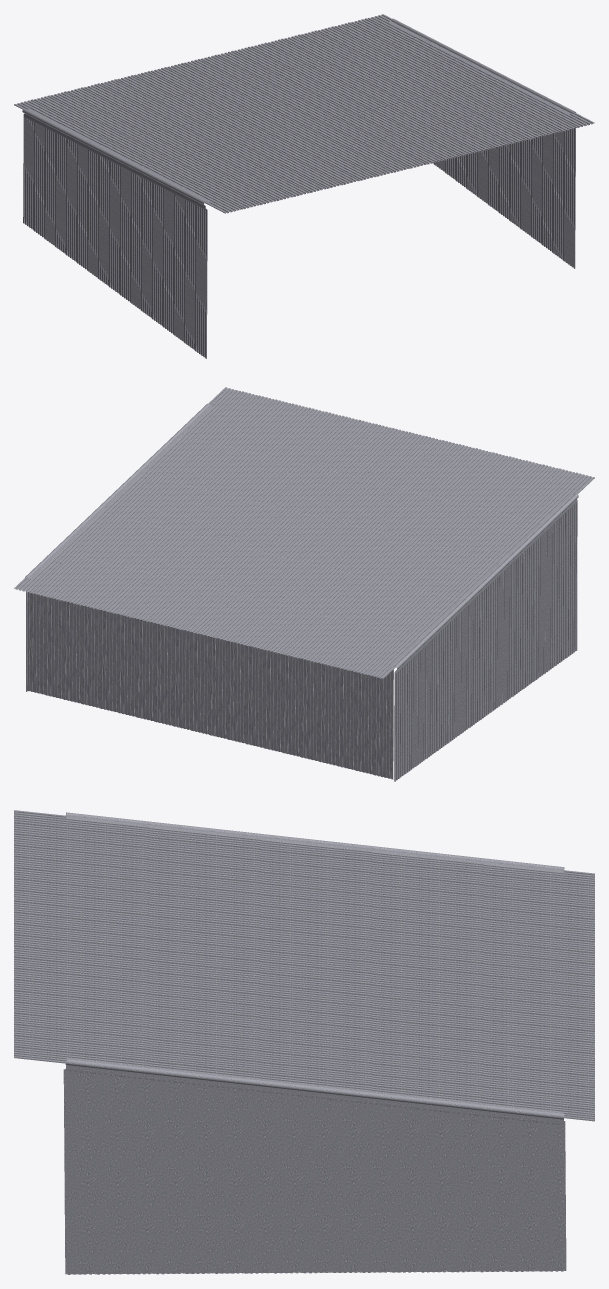
File: Tin.fbx
3 renders of one model, top to bottom at view 1: azimuth 30°, elevation 25°; view 2: azimuth 150°, elevation 25°; view 3: azimuth 270°, elevation 25°, orthographic. The views are drawn at different scales.
Visible parts, largest first — view 1: Tin; view 2: Tin; view 3: Tin.
Part boxes in pixels (<box>): Tin: <box>14,14,594,358</box>; Tin: <box>14,387,594,781</box>; Tin: <box>14,810,594,1274</box>.
Size of the model in its own units: 3667 by 1502 by 3613.
1 material, 1 textured.
